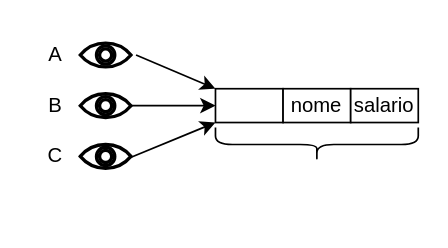
Image size: 448x248. Some labels were removed from this diagram. The shapes that lost their labels are listed below. From the top down, each one's centre as x and y in pixels, then its label:
At pixel 248 105: "codigo".
At pixel 316 143: "Struct nó".
